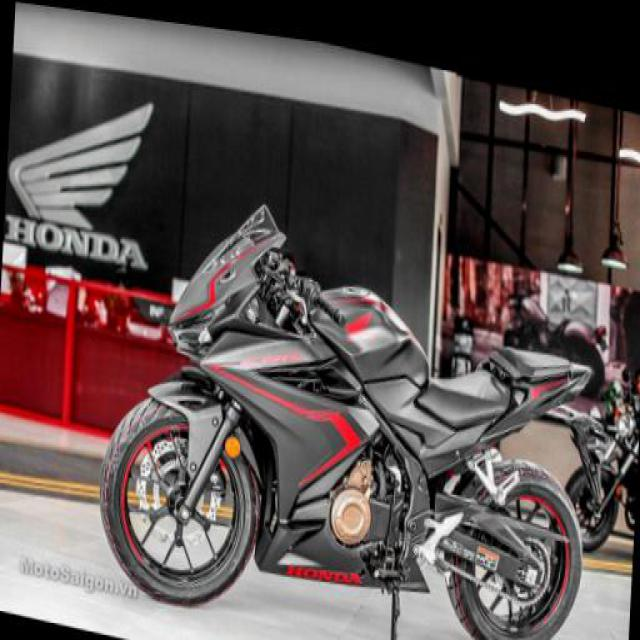CBR500R: (91, 162, 599, 638)
